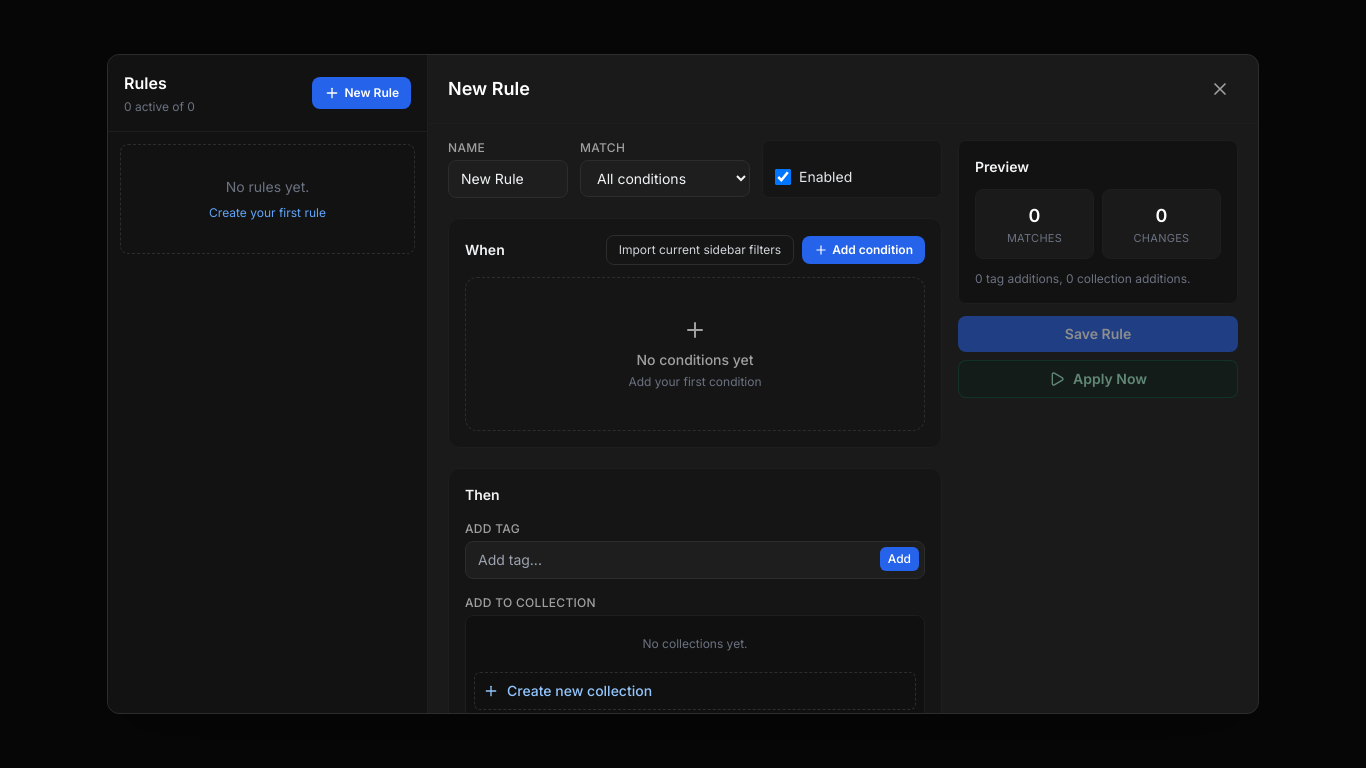
Scenario: AutomationRulesModal › captures current sidebar filters into editable condition rows
Click the button "Import current sidebar filters": (700, 250) 606,235 -> 794,265
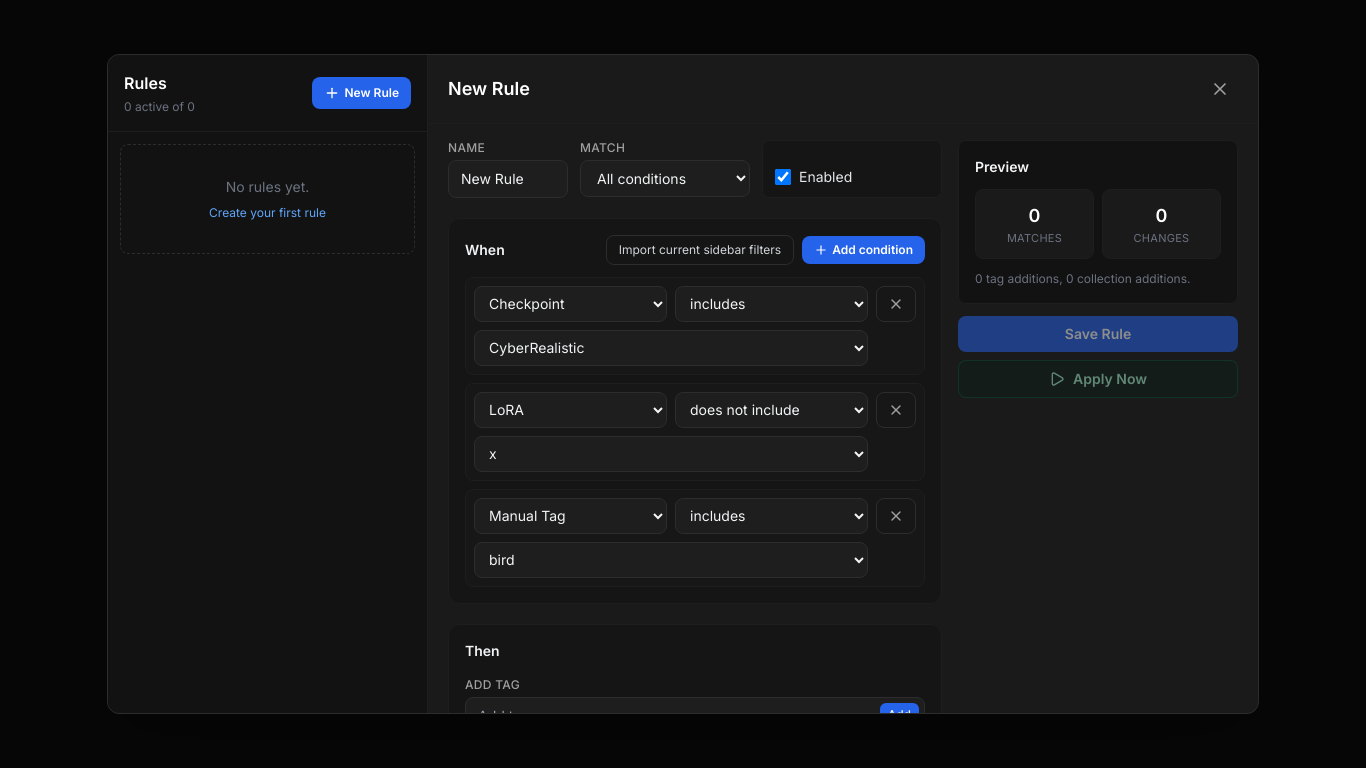
Expected: the dropdown named "Checkpoint value" shows "CyberRealistic", 474,330 -> 868,366
Expected: the dropdown named "LoRA value" shows "x", 474,436 -> 868,472
Expected: the dropdown named "Manual Tag value" shows "bird", 474,542 -> 868,578
